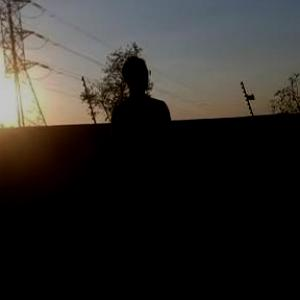follow: (107, 50, 203, 289)
